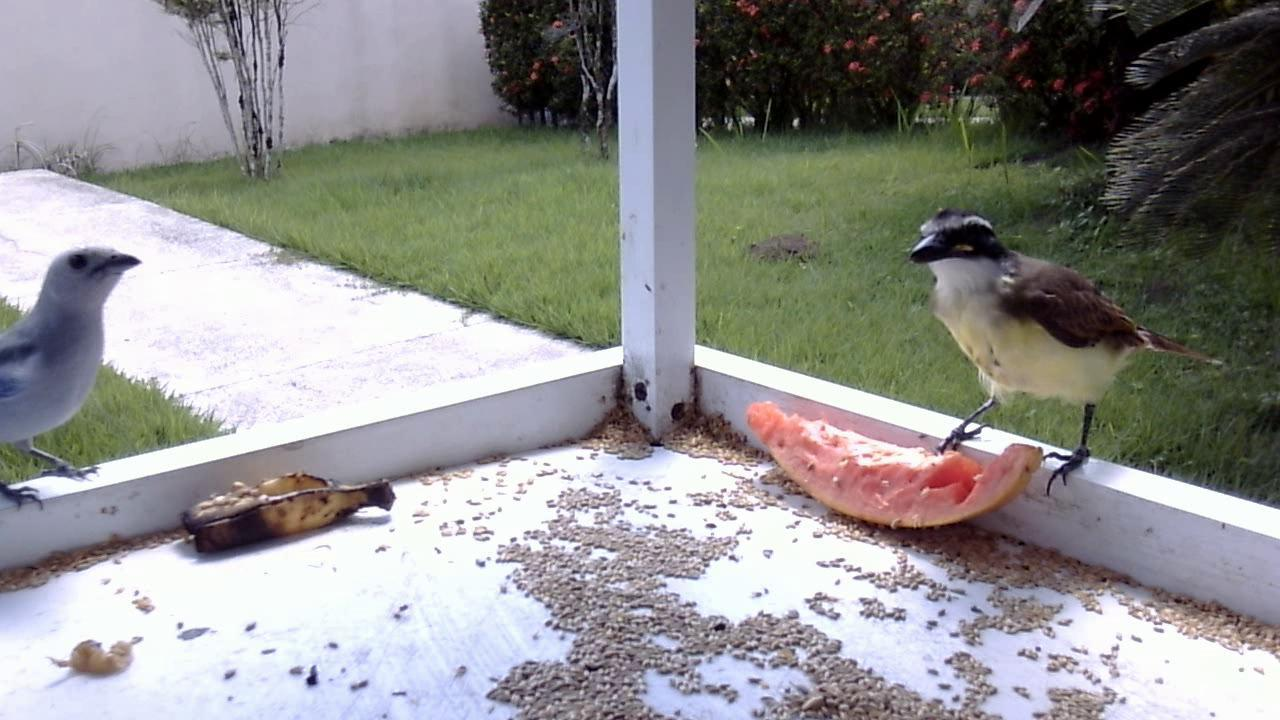bem_te_vi: (902, 201, 1227, 510)
sanhaco_da_amazonia: (1, 241, 151, 511)
